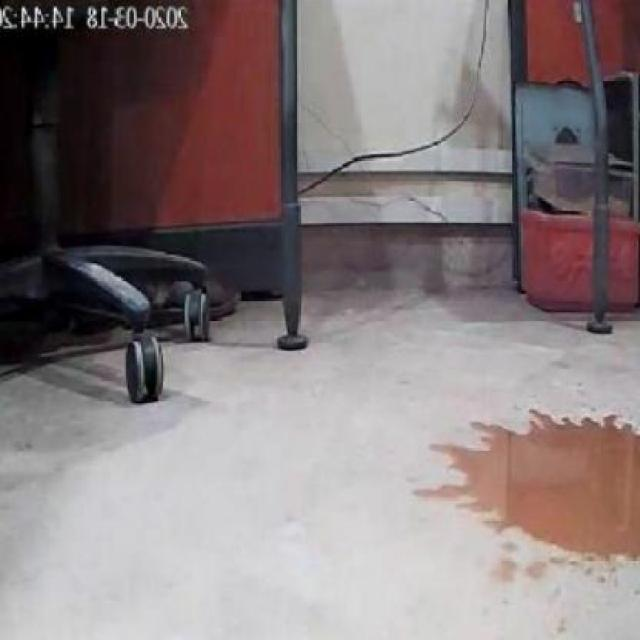spillage: (440, 412, 640, 560)
